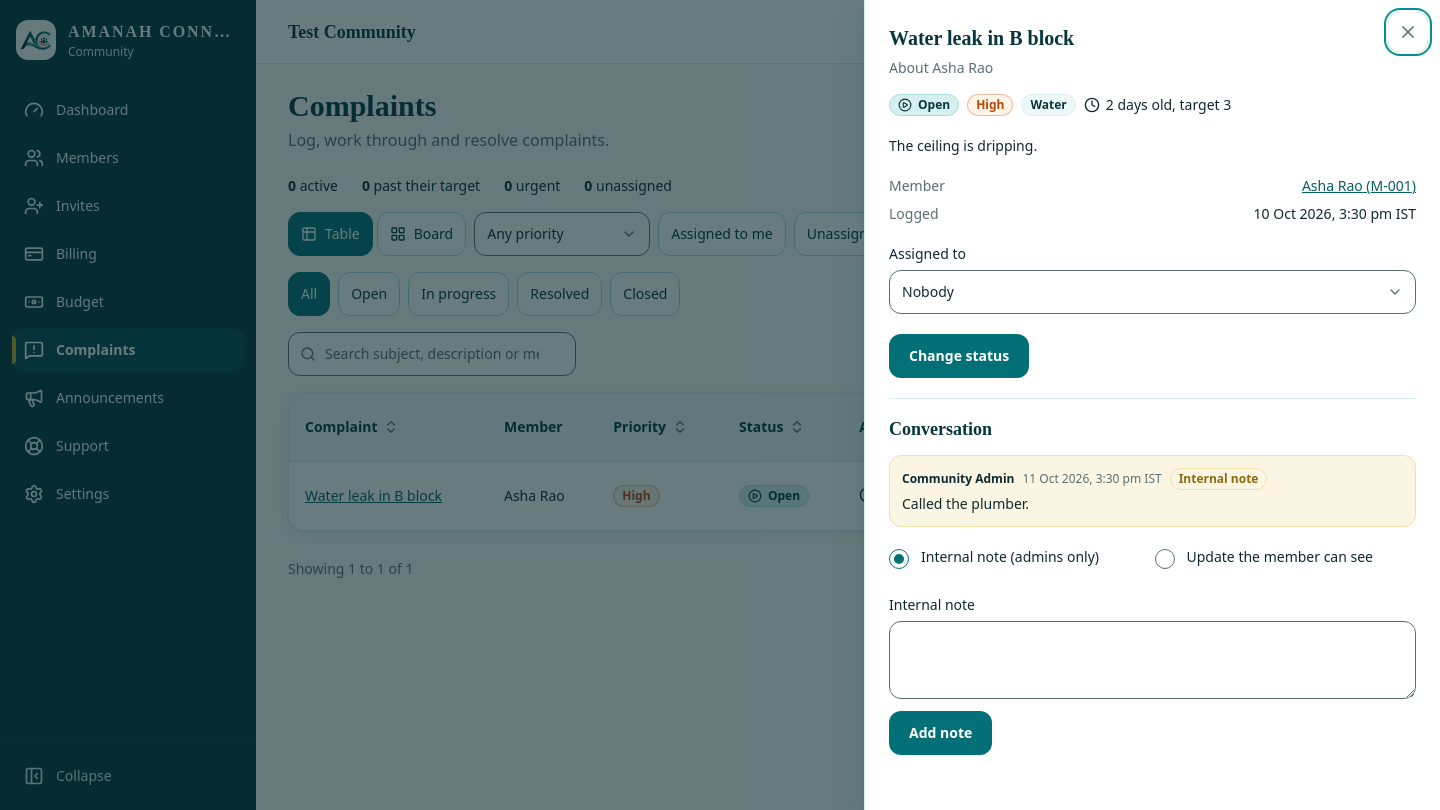
Test case: complaint drawer › will not add an empty note
Click the button "Add note" at (941, 733), box [889,711,992,755]
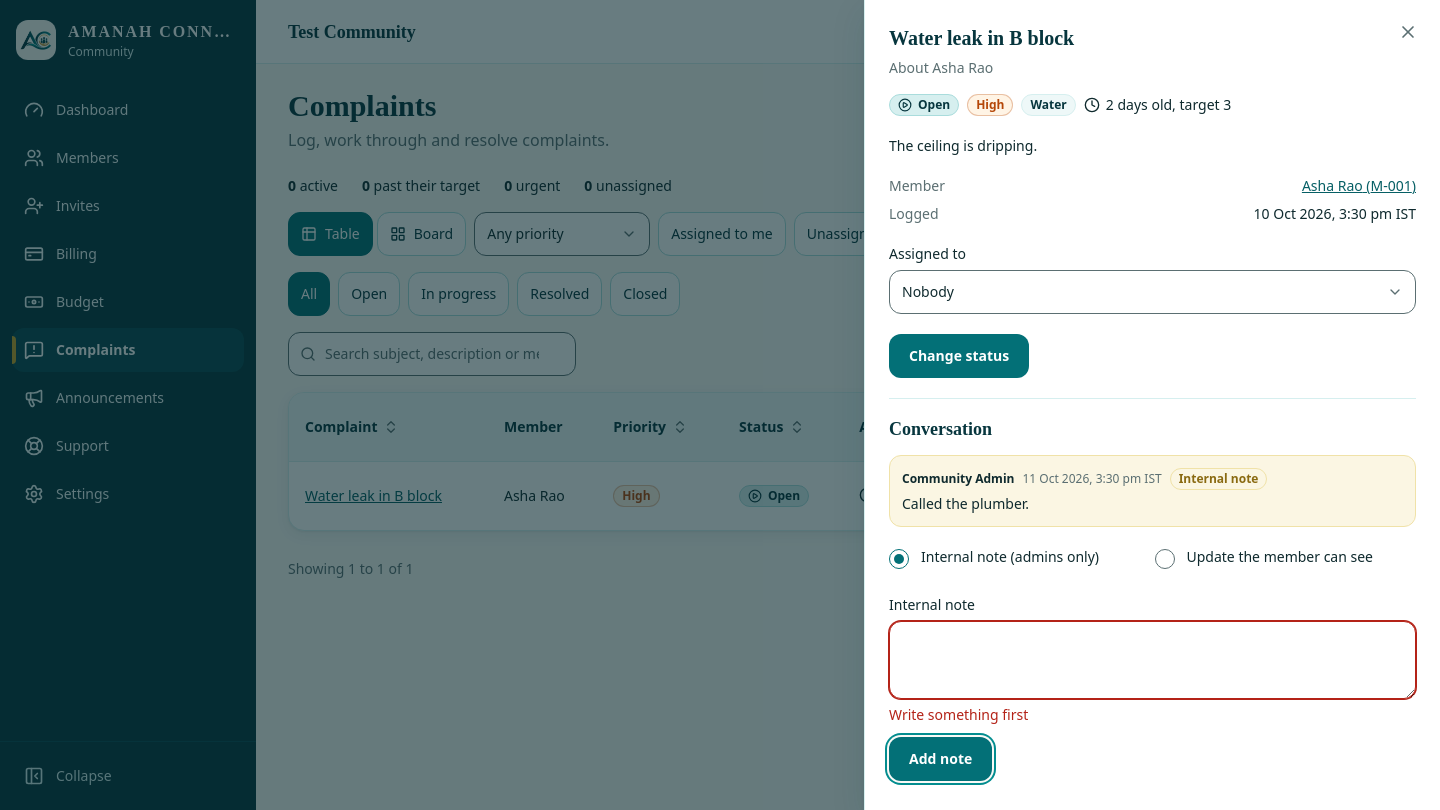
Now the text "Write something first" is shown, box [889,705,1028,724]
